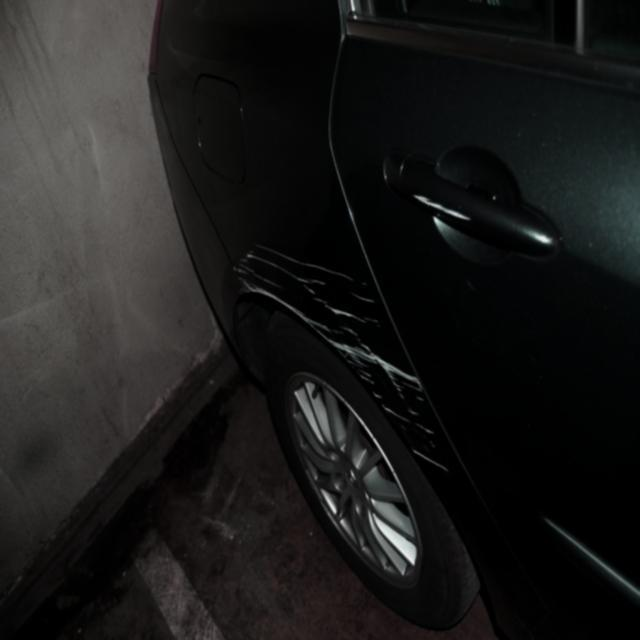minor: (233, 241, 450, 466)
